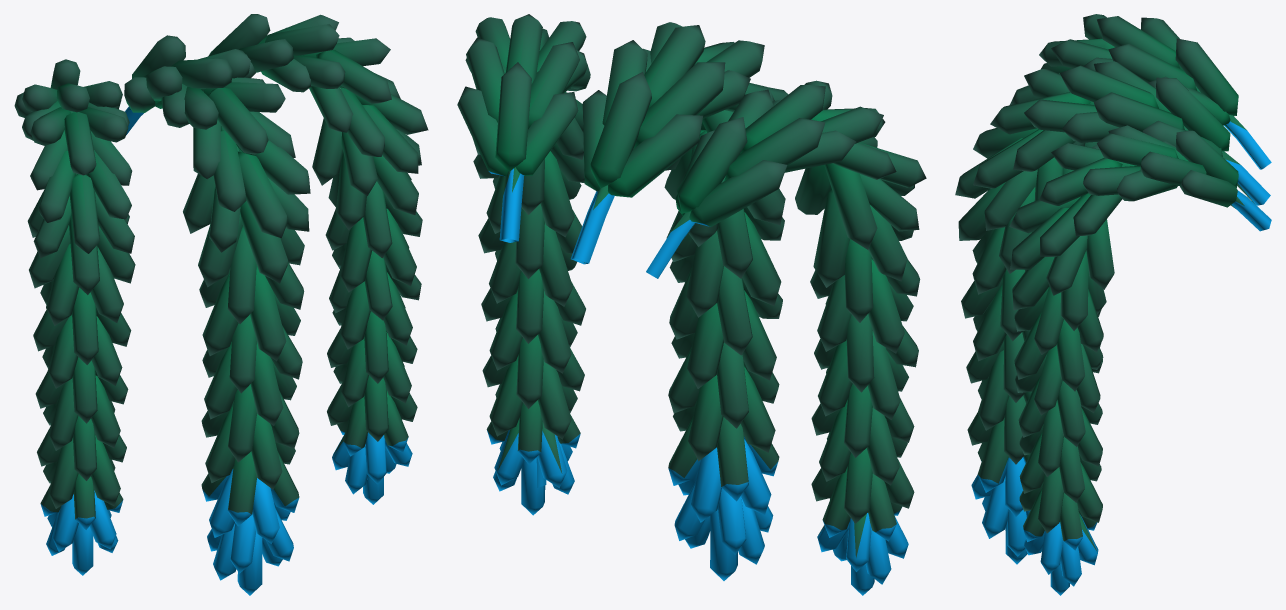
Rendered from plant4.fbx.
The picture shows the model from 3 angles, left to right: view 1: azimuth 30°, elevation 25°; view 2: azimuth 150°, elevation 25°; view 3: azimuth 270°, elevation 25°; orthographic projection. The views are drawn at different scales.
Parts seen in each view (by area): view 1: plant4; view 2: plant4; view 3: plant4.
Part boxes in pixels (x1=…): plant4: x1=14, y1=14, x2=428, y2=595; plant4: x1=457, y1=14, x2=926, y2=595; plant4: x1=955, y1=14, x2=1271, y2=595.
Size of what is drawn, in the model's own units: 66.76 by 85.7 by 49.39.
